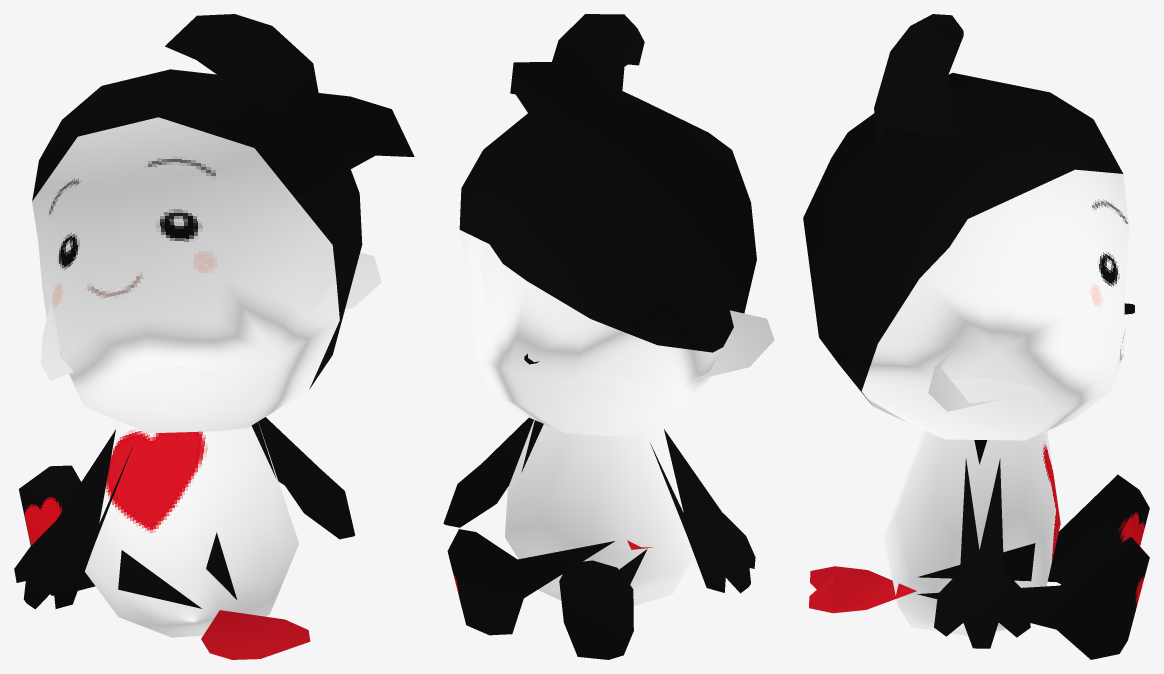
File: ps2_save-icons_primopuel.glb
The picture shows the model from 3 angles, left to right: view 1: azimuth 30°, elevation 25°; view 2: azimuth 150°, elevation 25°; view 3: azimuth 270°, elevation 25°; orthographic projection. The views are drawn at different scales.
Visible parts, largest first — view 1: STATIC.ICO; view 2: STATIC.ICO; view 3: STATIC.ICO.
Boxes of the visible parts, bbox=[...] form: STATIC.ICO: bbox=[14, 14, 414, 659]; STATIC.ICO: bbox=[443, 14, 774, 659]; STATIC.ICO: bbox=[803, 14, 1149, 659].
Size of the model in its own units: 2.96 by 5.23 by 2.7.
1 material, 1 textured.
